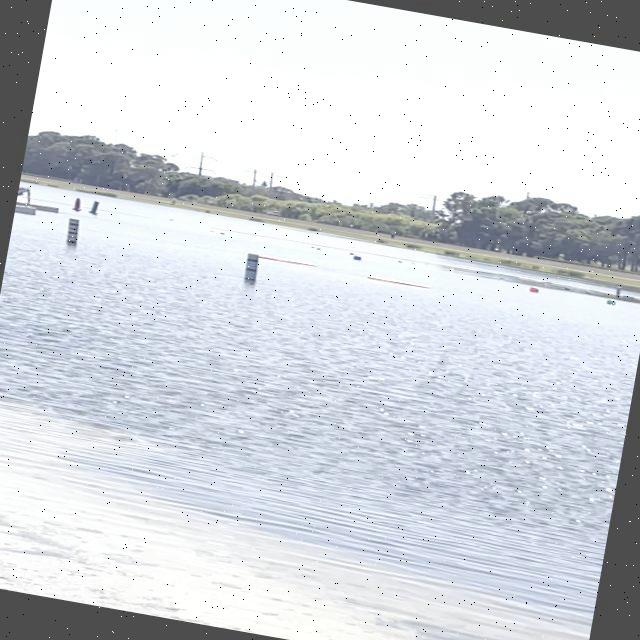buoy: (527, 286, 539, 294), (352, 254, 362, 262), (606, 299, 616, 306)
